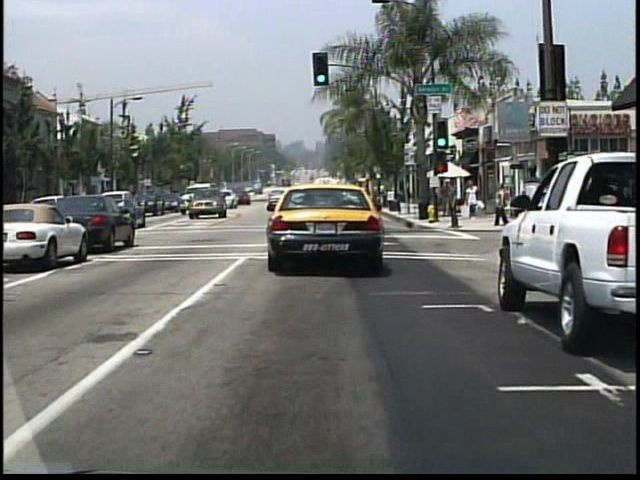person: (515, 160, 546, 254), (447, 182, 463, 233), (466, 180, 481, 219), (441, 182, 454, 218)
